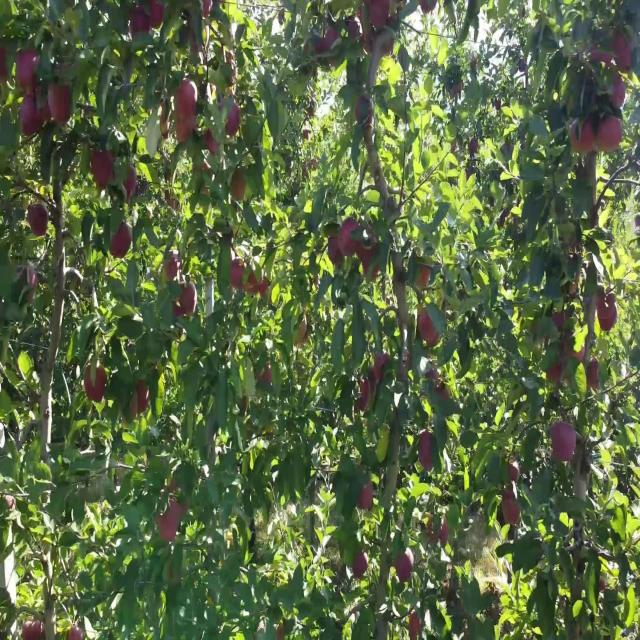apple: (20, 93, 50, 136), (156, 500, 181, 542), (550, 422, 576, 462), (596, 287, 618, 331), (16, 49, 38, 93), (20, 93, 42, 136), (91, 149, 114, 189), (596, 116, 622, 151), (570, 118, 596, 153), (570, 118, 595, 153), (175, 78, 198, 116), (84, 364, 106, 402), (48, 84, 70, 122), (418, 309, 440, 347), (425, 367, 450, 400), (338, 218, 359, 256), (110, 222, 132, 258), (612, 31, 631, 71), (358, 244, 379, 280), (501, 487, 520, 526), (131, 380, 149, 418), (28, 204, 49, 236), (395, 547, 414, 582), (175, 111, 196, 142), (35, 82, 51, 122), (180, 282, 198, 316), (130, 4, 150, 33), (610, 73, 626, 109), (248, 271, 269, 298), (164, 249, 181, 282), (419, 429, 432, 471), (225, 102, 240, 136), (358, 480, 374, 511), (328, 236, 344, 267), (230, 167, 245, 200), (356, 378, 371, 411), (372, 353, 389, 382), (124, 164, 138, 199), (355, 96, 372, 124), (230, 258, 245, 289), (22, 620, 45, 640), (352, 551, 369, 578), (590, 47, 612, 67), (149, 0, 164, 29), (586, 358, 600, 389), (294, 316, 308, 347), (244, 269, 260, 296), (242, 269, 258, 296), (204, 129, 219, 156), (415, 264, 430, 291), (160, 100, 170, 139), (255, 362, 272, 384), (409, 609, 421, 640), (324, 27, 340, 50), (346, 16, 361, 40), (438, 518, 449, 549), (26, 264, 38, 291), (380, 31, 394, 54), (439, 518, 449, 549), (546, 362, 561, 382), (551, 311, 566, 331), (508, 458, 520, 482), (66, 624, 84, 640), (419, 1, 438, 16), (570, 344, 585, 362), (259, 276, 270, 298), (172, 300, 184, 318), (569, 276, 579, 296), (202, 0, 212, 18), (4, 496, 15, 509), (315, 38, 325, 52), (29, 293, 32, 302)
